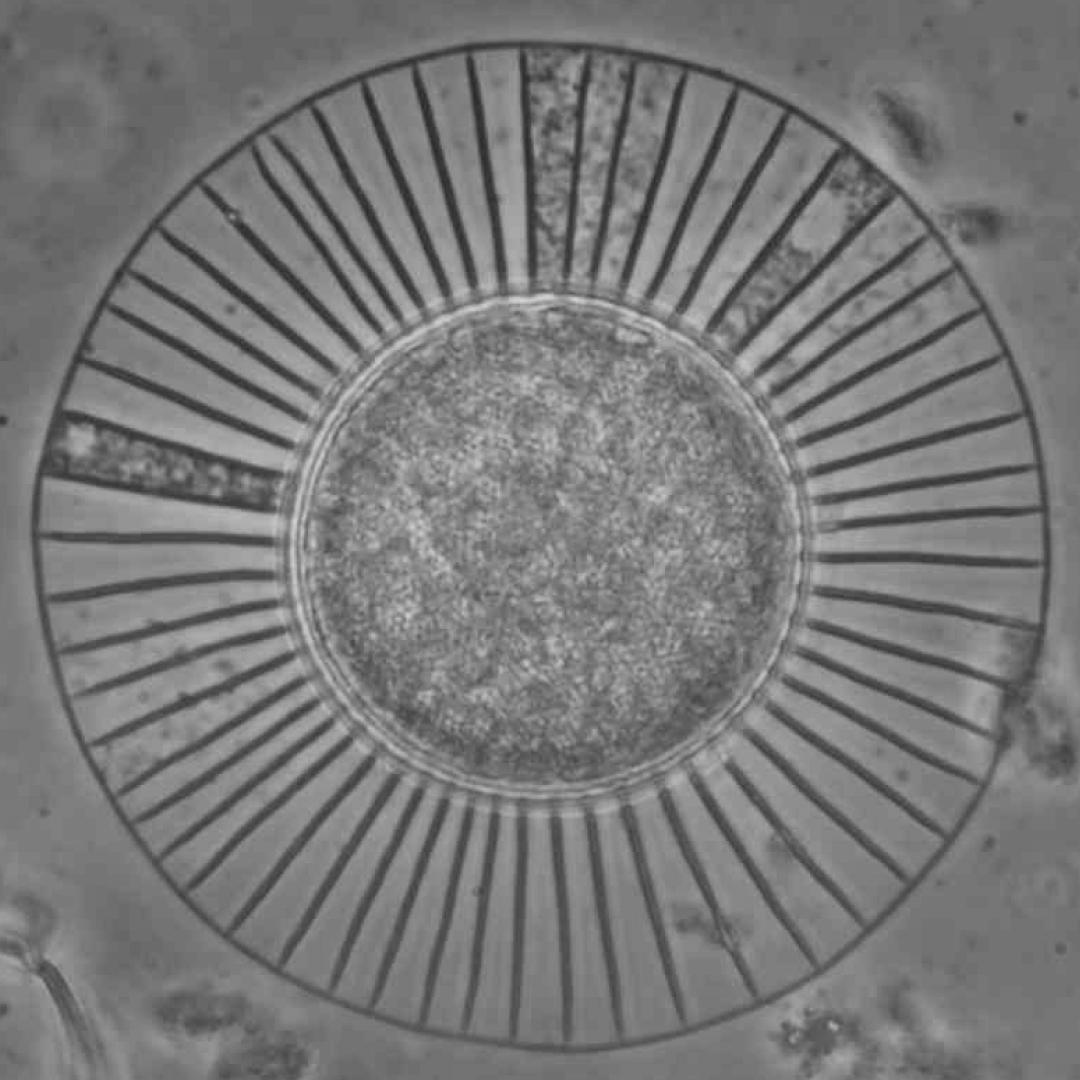planktoniella_sol: (34, 43, 1049, 1050)
